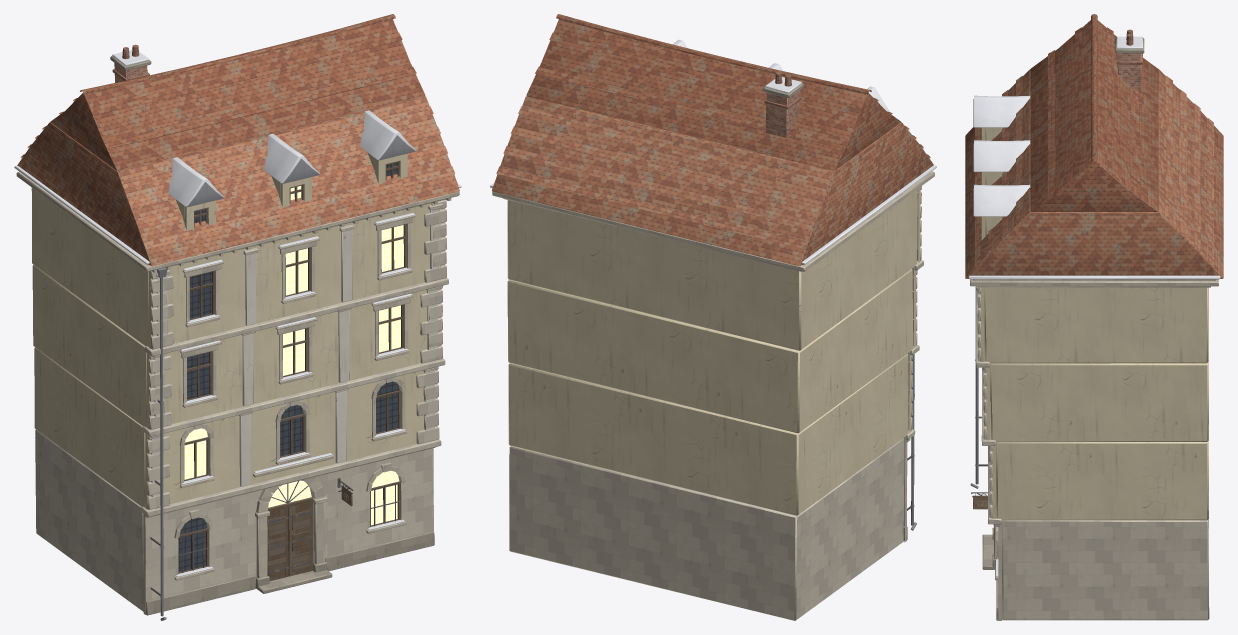
Rendered from tenement_c.glb.
The picture shows the model from 3 angles, left to right: view 1: azimuth 30°, elevation 25°; view 2: azimuth 150°, elevation 25°; view 3: azimuth 270°, elevation 25°; orthographic projection. The views are drawn at different scales.
Visible parts, largest first — view 1: tenement_c; view 2: tenement_c; view 3: tenement_c.
Part boxes in pixels (x1=…): tenement_c: x1=14, y1=14, x2=461, y2=620; tenement_c: x1=490, y1=14, x2=936, y2=620; tenement_c: x1=965, y1=14, x2=1223, y2=620.
Size of what is drawn, in the model's own units: 13.17 by 20.09 by 9.82.
Materials: 17 (17 with a texture image).
